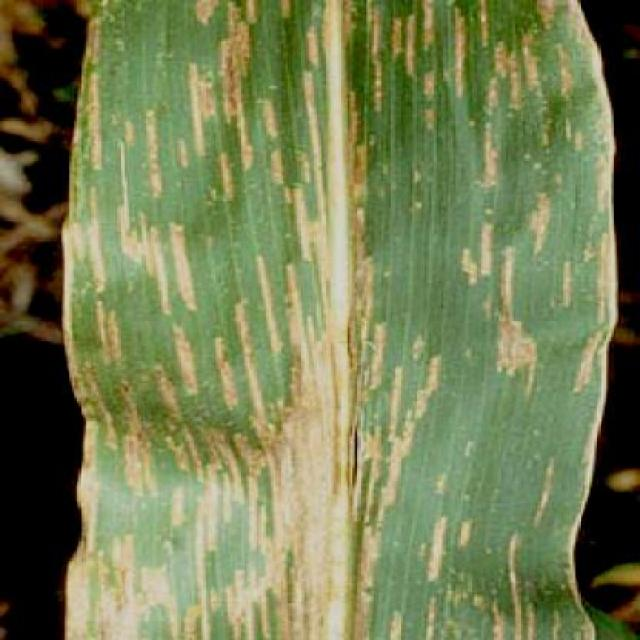Corn_Grey_Leaf_Spot: (66, 9, 599, 640)
